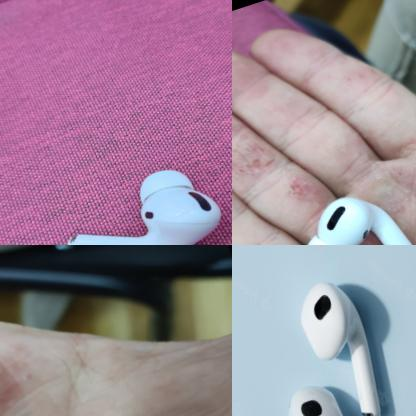Airpods: (45, 150, 232, 245), (287, 264, 396, 416), (290, 177, 416, 245), (274, 379, 382, 416)
